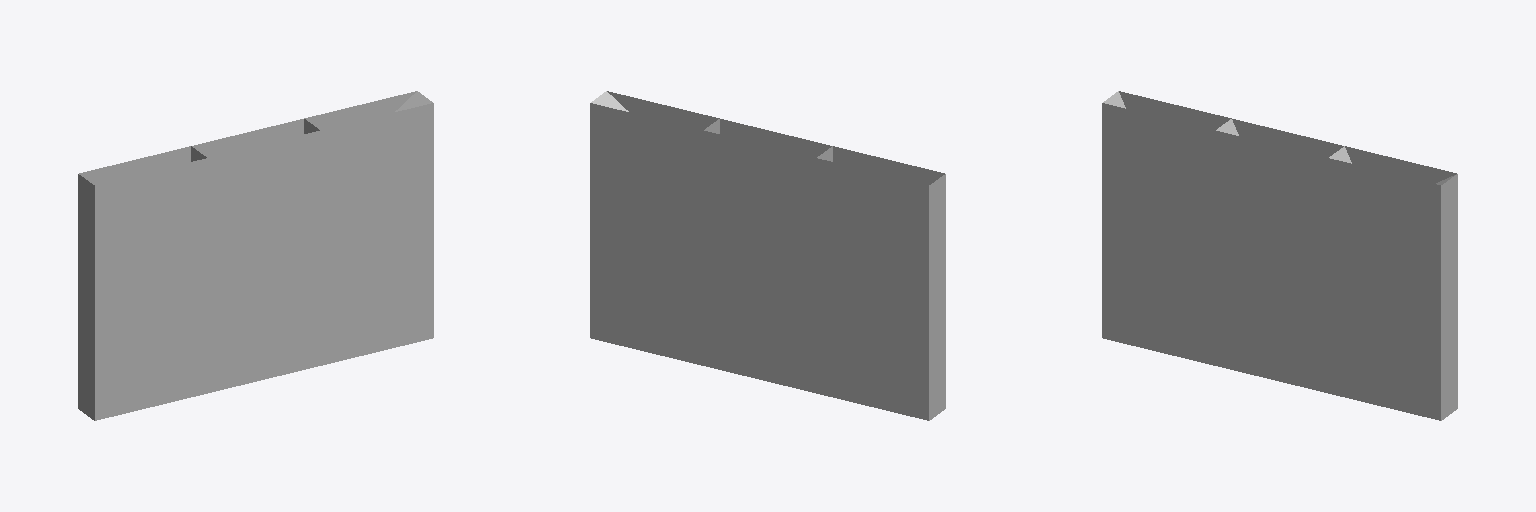
File: 3d_Silithus-Pond02.wlw.obj
3 renders of one model, left to right at view 1: azimuth 30°, elevation 25°; view 2: azimuth 150°, elevation 25°; view 3: azimuth 330°, elevation 25°, orthographic.
Bounding box in the file's own units: 120 × 79.44 × 10.